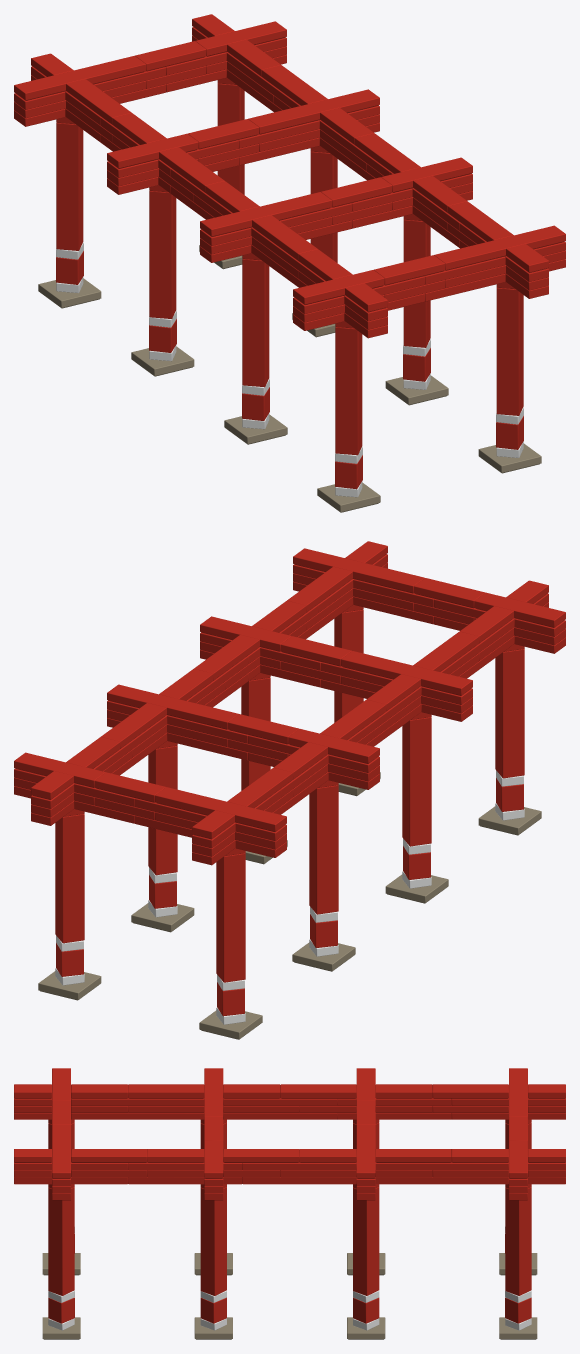
Rendered from Torri.fbx.
The picture shows the model from 3 angles, top to bottom: view 1: azimuth 30°, elevation 25°; view 2: azimuth 150°, elevation 25°; view 3: azimuth 270°, elevation 25°; orthographic projection. The views are drawn at different scales.
Parts seen in each view (by area): view 1: 03847_2453.dat, 03853_2453.dat, 03835_2453.dat, 03841_2453.dat, 03817_2453.dat, 03859_2453.dat, 03969_6636.dat, 03967_6636.dat, 03966_6636.dat, 03968_6636.dat, 03823_2453.dat, 03829_2453.dat (+50 smaller); view 2: 03823_2453.dat, 03841_2453.dat, 03817_2453.dat, 03835_2453.dat, 03847_2453.dat, 03829_2453.dat, 03969_6636.dat, 03967_6636.dat, 03968_6636.dat, 03966_6636.dat, 03853_2453.dat, 03859_2453.dat (+50 smaller); view 3: 03829_2453.dat, 03859_2453.dat, 03853_2453.dat, 03823_2453.dat, 03950_2431.dat, 03955_2431.dat, 03952_2431.dat, 03968_6636.dat, 03951_2431.dat, 03953_2431.dat, 03954_2431.dat, 03920_3460.dat (+56 smaller).
Boxes of the visible parts, x1,y1,x2,y2 form: 03847_2453.dat: (335, 327, 362, 455); 03853_2453.dat: (496, 287, 523, 415); 03835_2453.dat: (149, 191, 176, 318); 03841_2453.dat: (242, 259, 269, 387); 03817_2453.dat: (56, 123, 83, 250); 03859_2453.dat: (403, 219, 430, 347); 03969_6636.dat: (14, 55, 145, 100); 03967_6636.dat: (200, 192, 331, 236); 03966_6636.dat: (434, 225, 565, 270); 03968_6636.dat: (248, 89, 379, 134); 03823_2453.dat: (217, 83, 244, 194); 03829_2453.dat: (310, 151, 337, 262); 03823_2453.dat: (55, 814, 84, 943); 03841_2453.dat: (402, 717, 431, 846); 03817_2453.dat: (216, 853, 245, 982); 03835_2453.dat: (309, 785, 338, 914); 03847_2453.dat: (495, 649, 524, 778); 03829_2453.dat: (148, 746, 177, 875); 03969_6636.dat: (155, 787, 286, 831); 03967_6636.dat: (341, 651, 472, 695); 03968_6636.dat: (107, 684, 238, 729); 03966_6636.dat: (293, 548, 424, 593); 03853_2453.dat: (334, 609, 363, 722); 03859_2453.dat: (241, 678, 270, 790); 03829_2453.dat: (353, 1187, 379, 1295); 03859_2453.dat: (200, 1187, 226, 1295); 03853_2453.dat: (48, 1187, 74, 1295); 03823_2453.dat: (505, 1187, 531, 1295); 03950_2431.dat: (432, 1084, 508, 1098); 03955_2431.dat: (128, 1084, 204, 1098); 03952_2431.dat: (280, 1084, 356, 1098); 03968_6636.dat: (356, 1124, 375, 1178); 03951_2431.dat: (375, 1149, 451, 1162); 03953_2431.dat: (223, 1149, 299, 1162); 03954_2431.dat: (71, 1149, 147, 1162); 03920_3460.dat: (375, 1162, 508, 1170).
Bounding box in the file's own units: 260 × 208 × 580.
